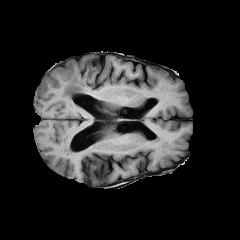glioma: (62, 66, 96, 107)
